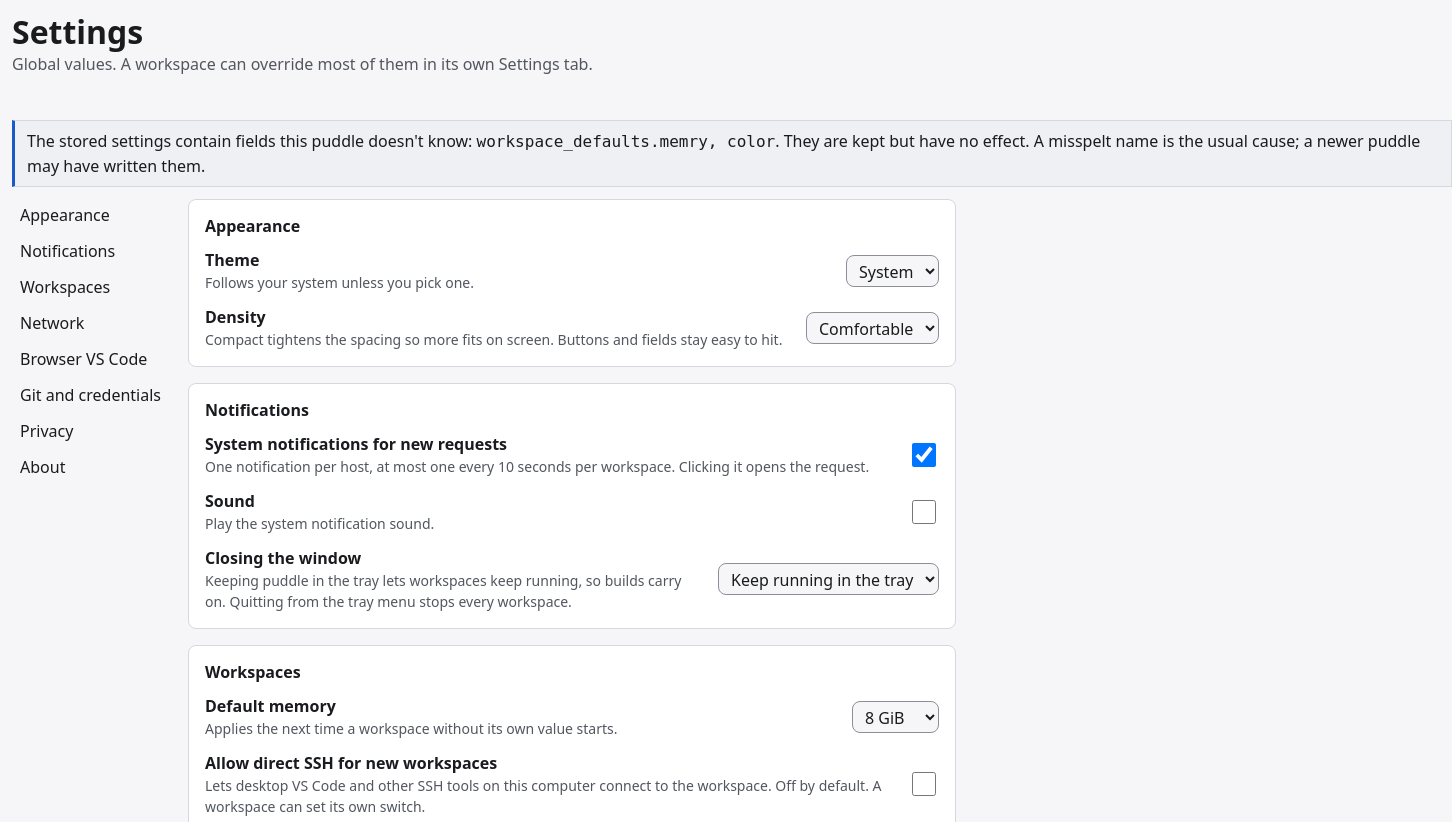
appearance and notifications › puts a control back when the save is refused
Expected: the heading "Appearance" is shown, x1=205 y1=215 x2=300 y2=237
Click the checkbox labelled "Sound".
click(924, 512)  # box x1=912 y1=500 x2=936 y2=524
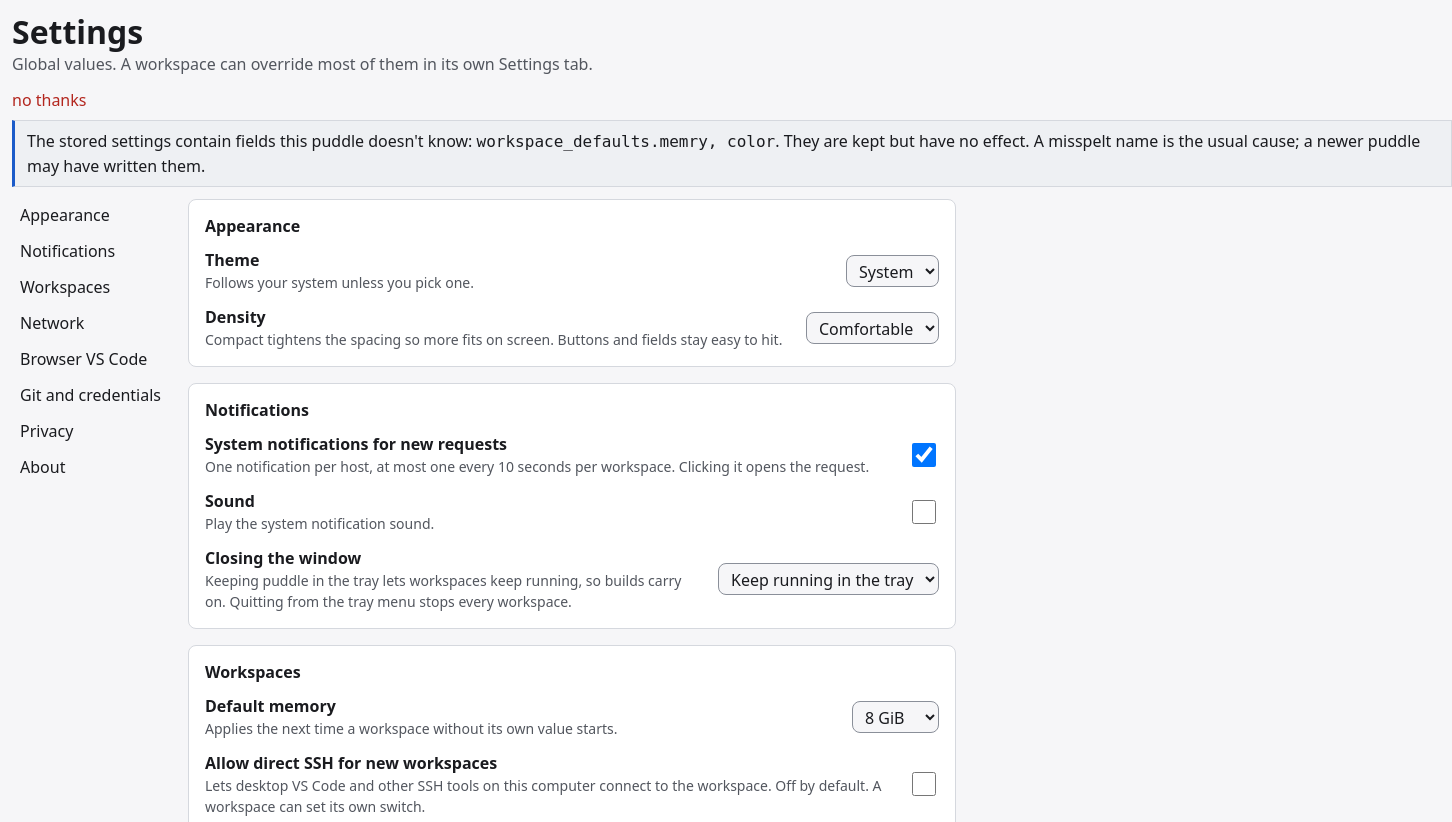
Now the message "no thanks" is shown, box x1=12 y1=89 x2=86 y2=111
